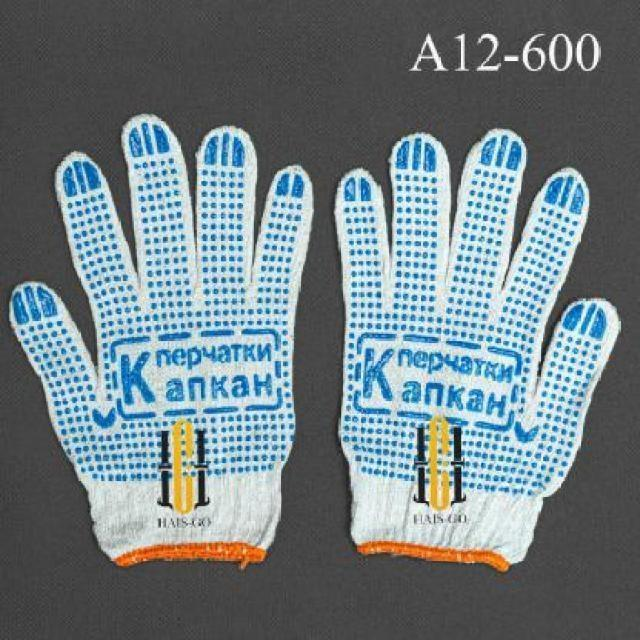glove: (4, 107, 318, 570), (324, 122, 623, 586)
